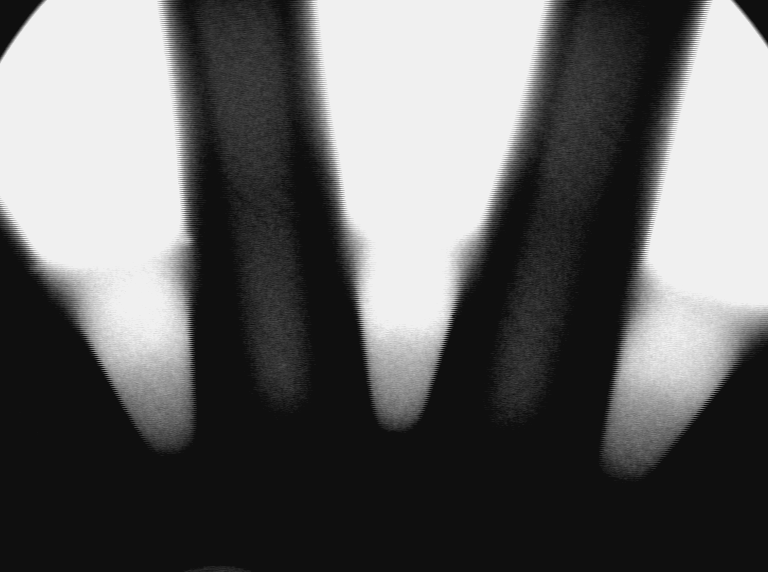defect: (124, 287, 155, 314)
